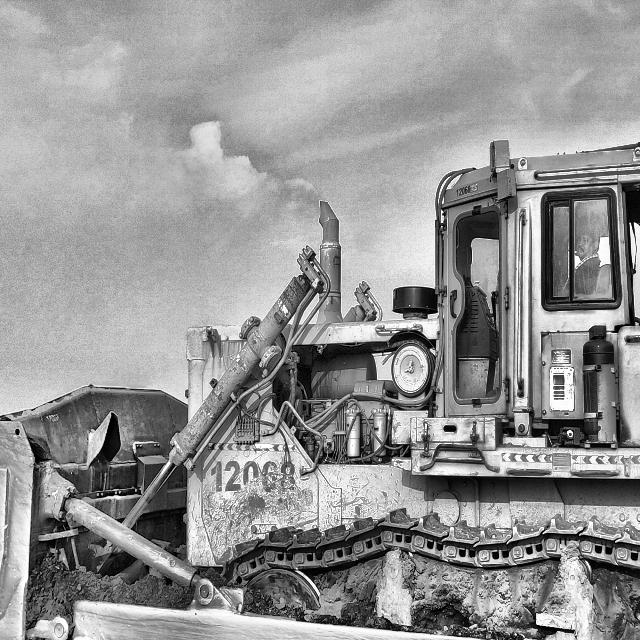buldozerpayloadergrader: (0, 143, 640, 640)
